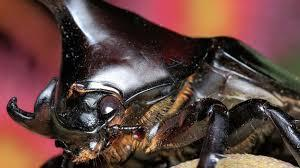insect: (1, 0, 300, 168)
